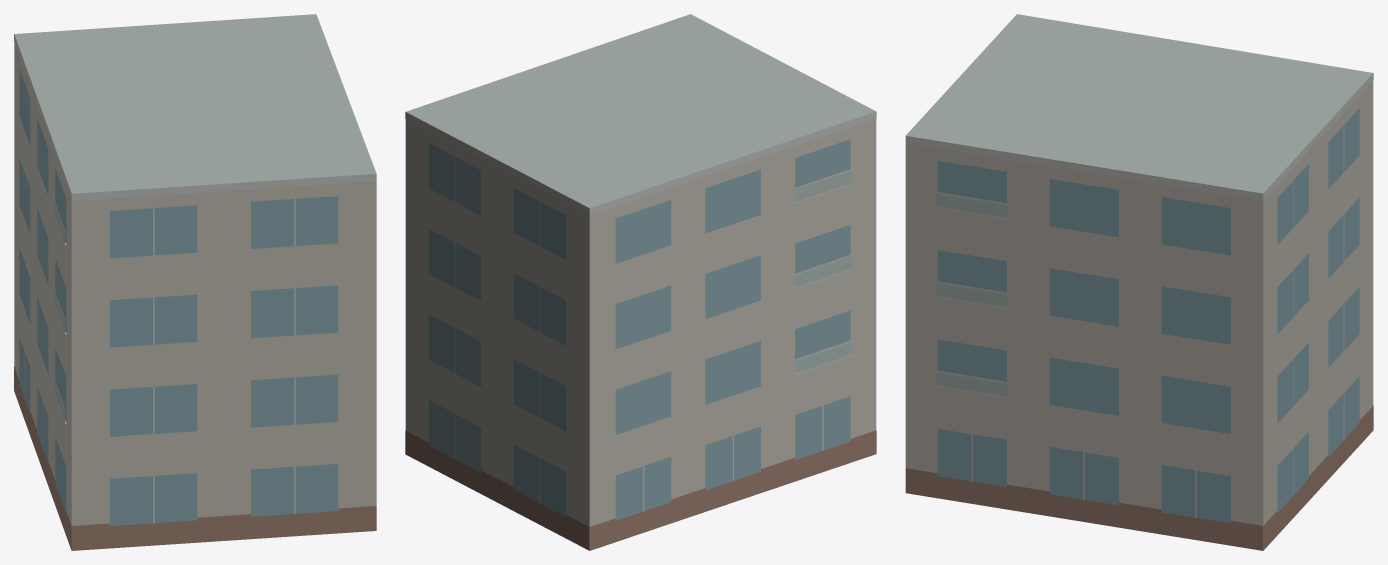
Rendered from survey-upis-32868929.glb.
3 renders of one model, left to right at view 1: azimuth 30°, elevation 25°; view 2: azimuth 150°, elevation 25°; view 3: azimuth 270°, elevation 25°, orthographic. The views are drawn at different scales.
Visible parts, largest first — view 1: survey-upis-32868929.tmp; view 2: survey-upis-32868929.tmp; view 3: survey-upis-32868929.tmp.
Part boxes in pixels (<box>): survey-upis-32868929.tmp: <box>14,14,376,550</box>; survey-upis-32868929.tmp: <box>405,14,876,550</box>; survey-upis-32868929.tmp: <box>905,14,1373,550</box>.
Size of the model in its own units: 12.73 by 11.8 by 14.01.
